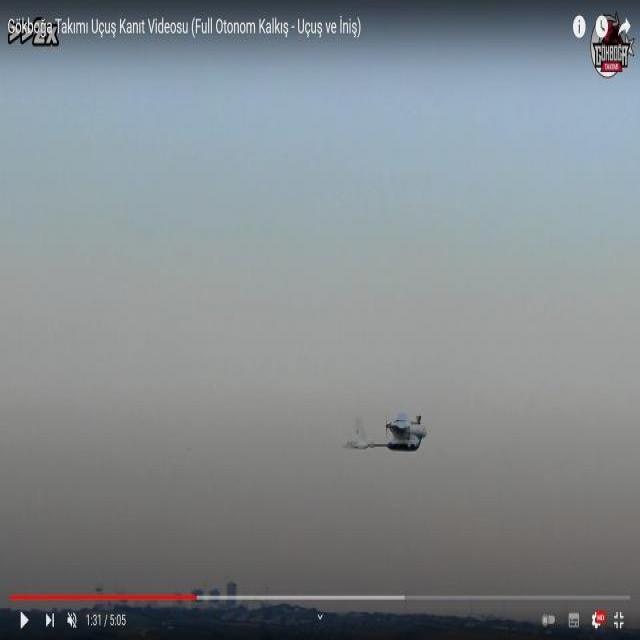iha: (373, 434, 402, 437)
